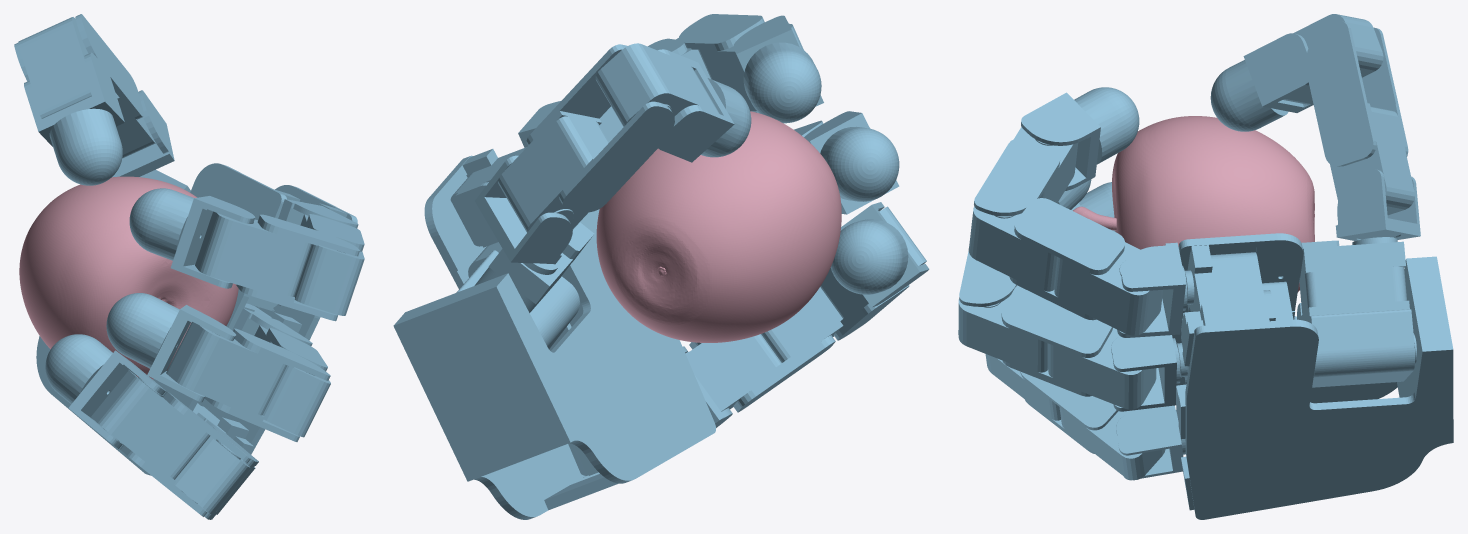
3 views of the same model, side by side, from view 1: azimuth 30°, elevation 25°; view 2: azimuth 150°, elevation 25°; view 3: azimuth 270°, elevation 25° (orthographic). The views are drawn at different scales.
Parts seen in each view (by area): view 1: world; view 2: world; view 3: world.
Part boxes in pixels (bbox=[...]): world: bbox=[14, 14, 364, 519]; world: bbox=[393, 14, 929, 519]; world: bbox=[958, 14, 1453, 519].
Bounding box in the file's own units: 0.1454 × 0.1802 × 0.1745.
